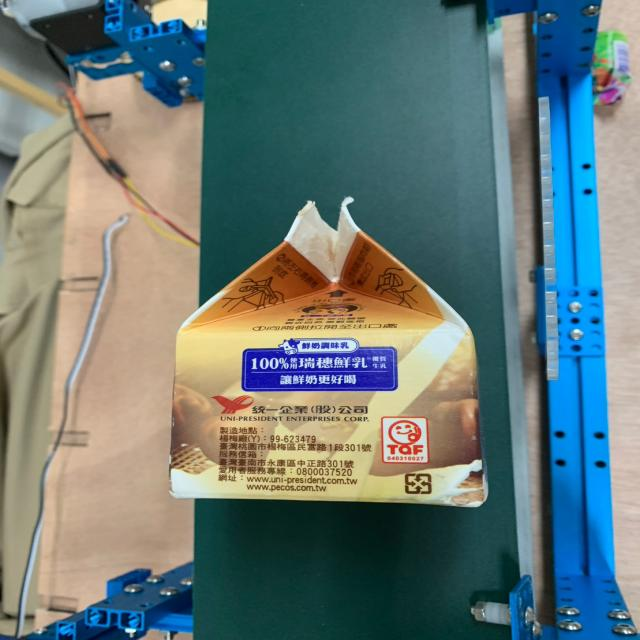non_white_jug: (142, 195, 519, 521)
